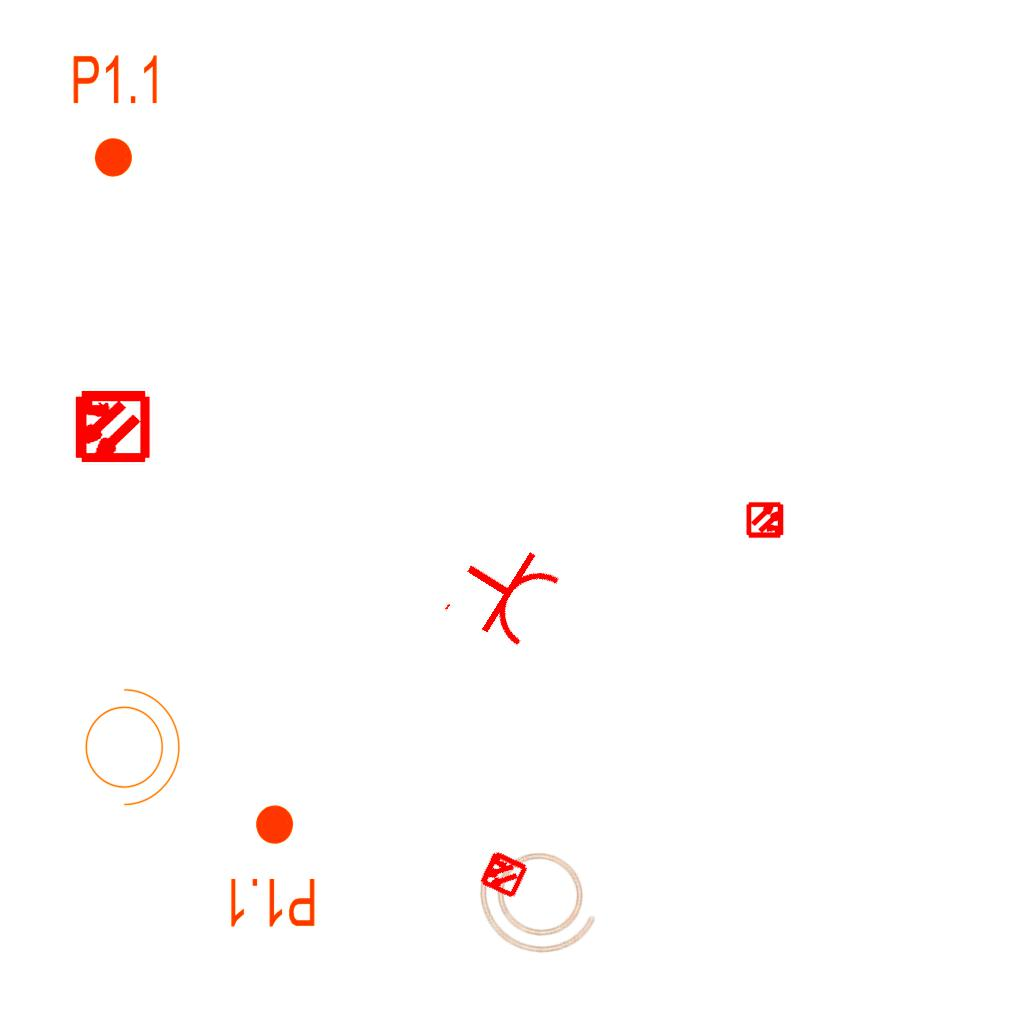Downlight_LED_Einbauleuchten_Flur: (70, 52, 163, 180), (225, 802, 318, 930)
OT_Multisensormelder_(Kombination_RMO_WMD): (54, 370, 167, 483), (465, 836, 541, 912), (738, 492, 794, 548)
Scheinwerfer_fuer_Alarmbeleuchtung: (457, 821, 625, 979), (73, 678, 185, 810)
Schukosteckdose_einfach: (440, 526, 567, 658)
